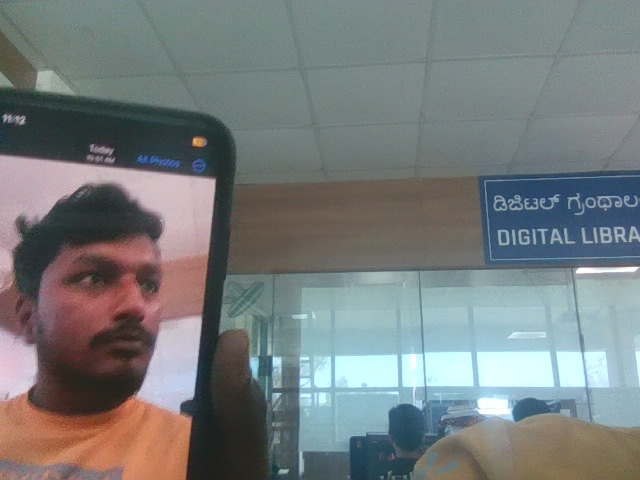fake: (22, 164, 192, 405)
